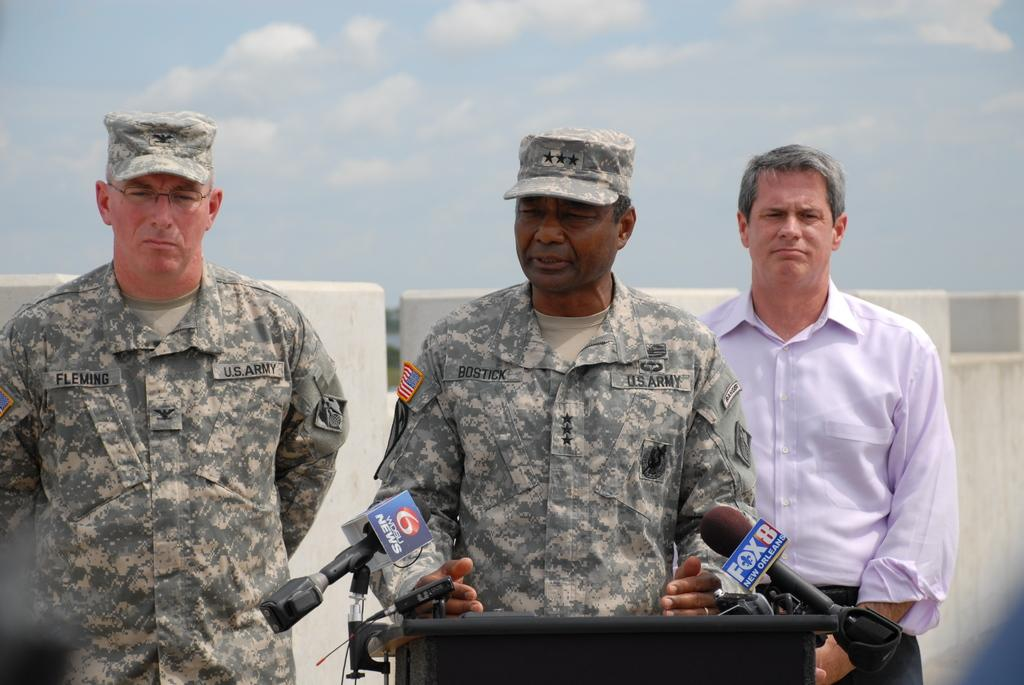Hat: (502, 124, 636, 207), (100, 106, 220, 182)
